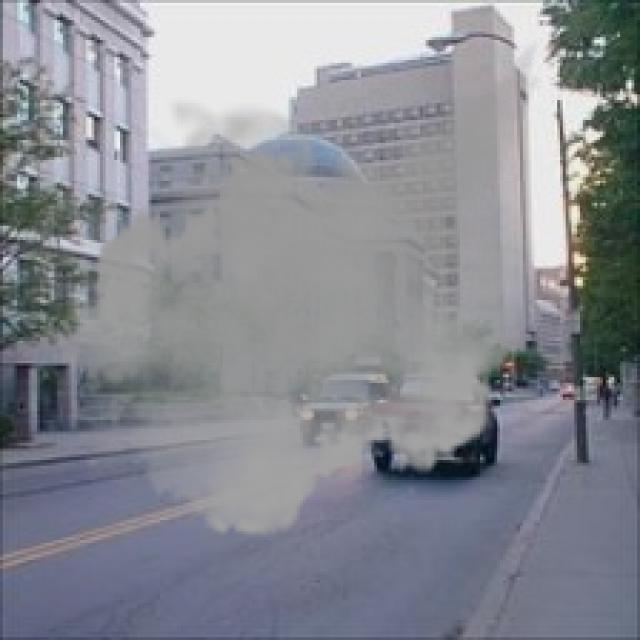Smoke: (37, 14, 552, 552)
